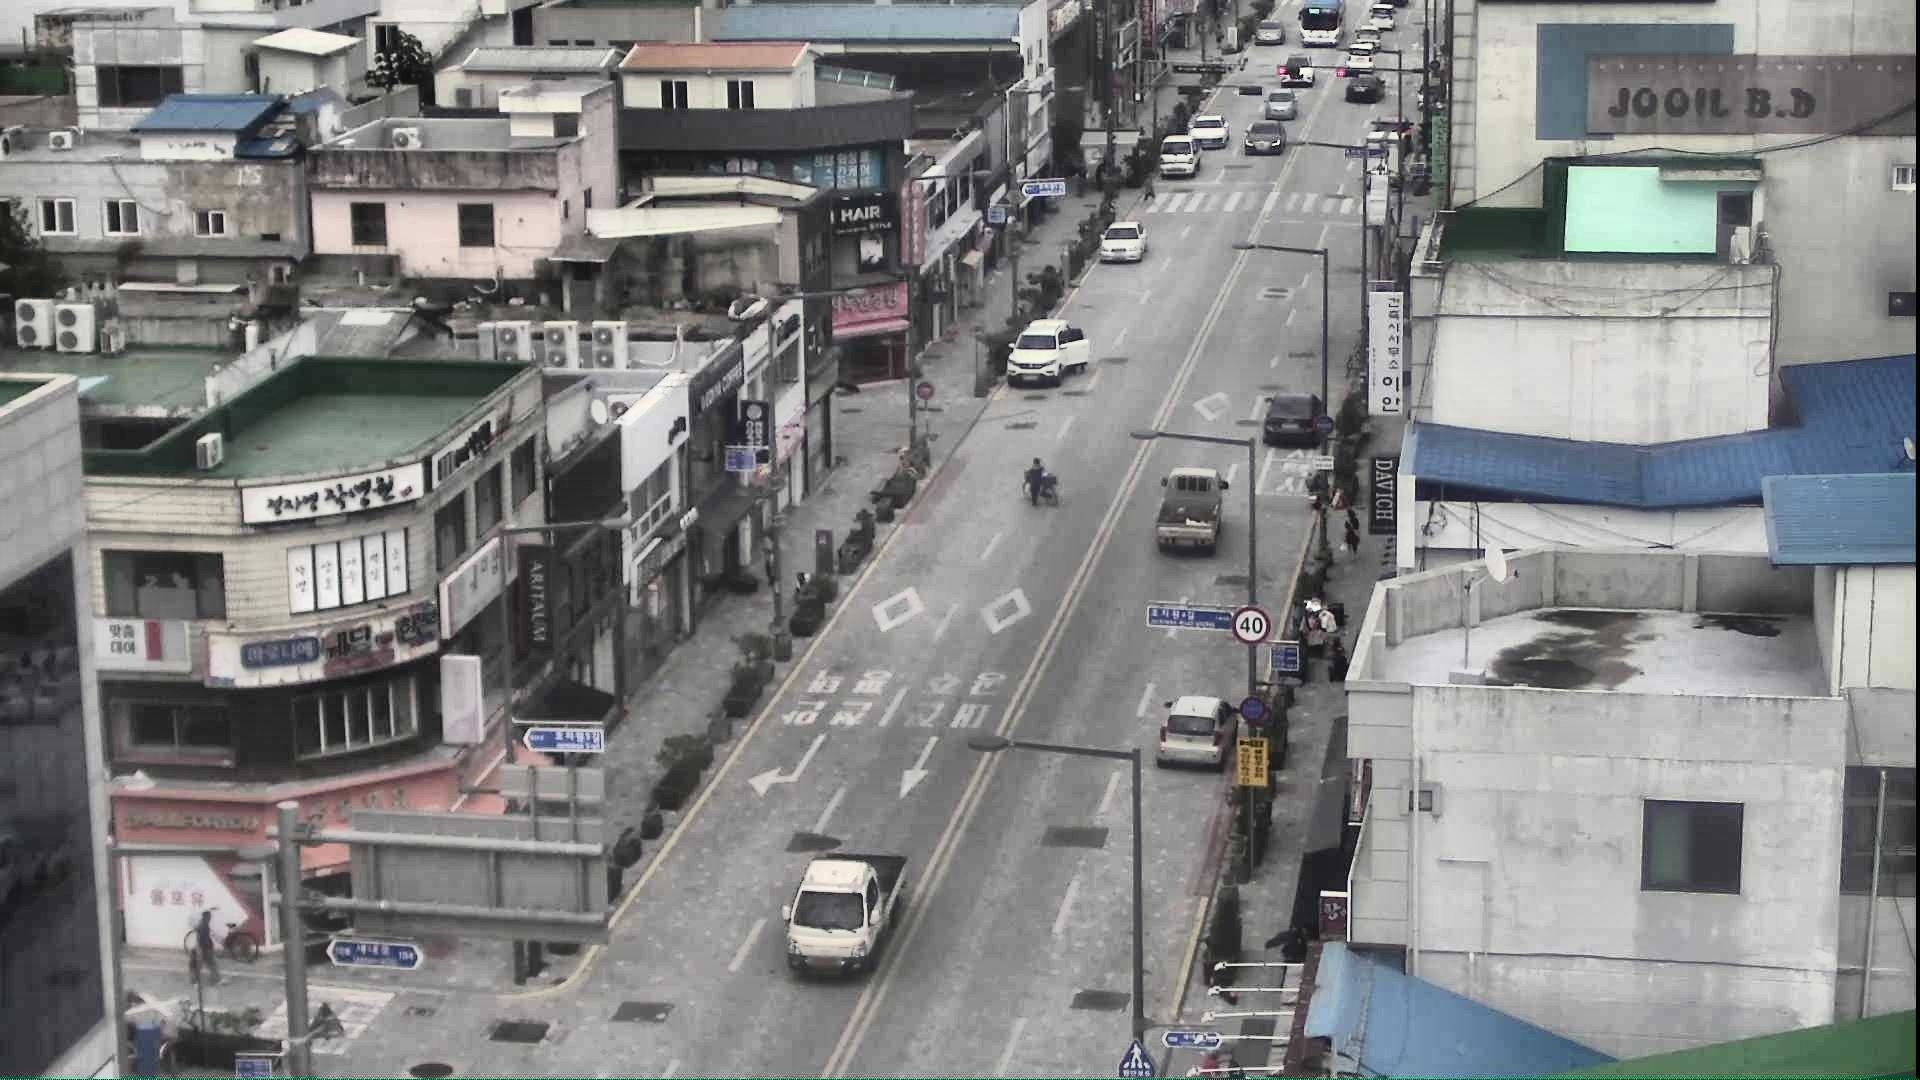crosswalk: (1141, 171, 1156, 204)
jaywalk: (186, 905, 228, 984), (1026, 456, 1047, 510)
sidewalk: (1340, 508, 1364, 556)
